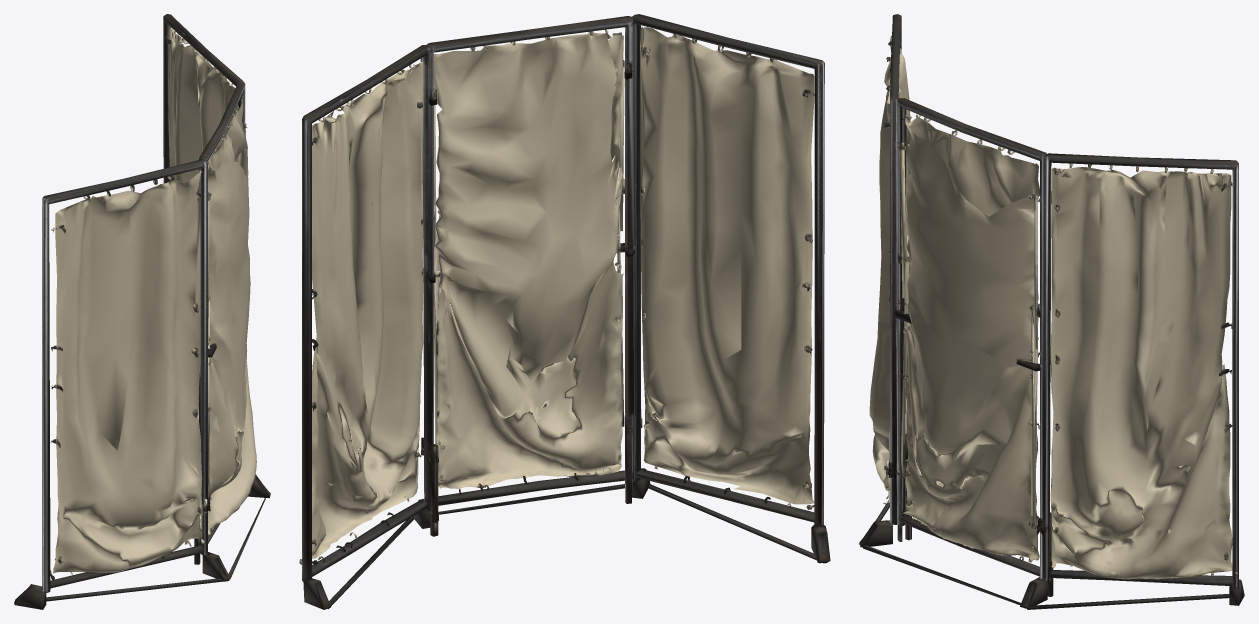
Rendered from prop-folding-screen-v01.glb.
The picture shows the model from 3 angles, left to right: view 1: azimuth 30°, elevation 25°; view 2: azimuth 150°, elevation 25°; view 3: azimuth 270°, elevation 25°; orthographic projection. The views are drawn at different scales.
Parts seen in each view (by area): view 1: tripo_node_599c27ac-981b-4eeb-bf31-286a616c84a9; view 2: tripo_node_599c27ac-981b-4eeb-bf31-286a616c84a9; view 3: tripo_node_599c27ac-981b-4eeb-bf31-286a616c84a9.
Boxes of the visible parts, bbox=[...] form: tripo_node_599c27ac-981b-4eeb-bf31-286a616c84a9: bbox=[14, 14, 270, 609]; tripo_node_599c27ac-981b-4eeb-bf31-286a616c84a9: bbox=[299, 14, 830, 609]; tripo_node_599c27ac-981b-4eeb-bf31-286a616c84a9: bbox=[859, 14, 1244, 609].
Size of the model in its own units: 1.36 by 1.7 by 1.33.
Materials: 1 (1 with a texture image).
